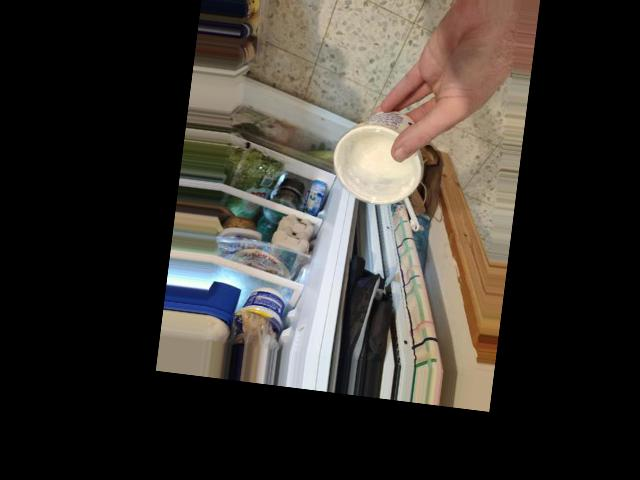cotage: (352, 109, 430, 202)
